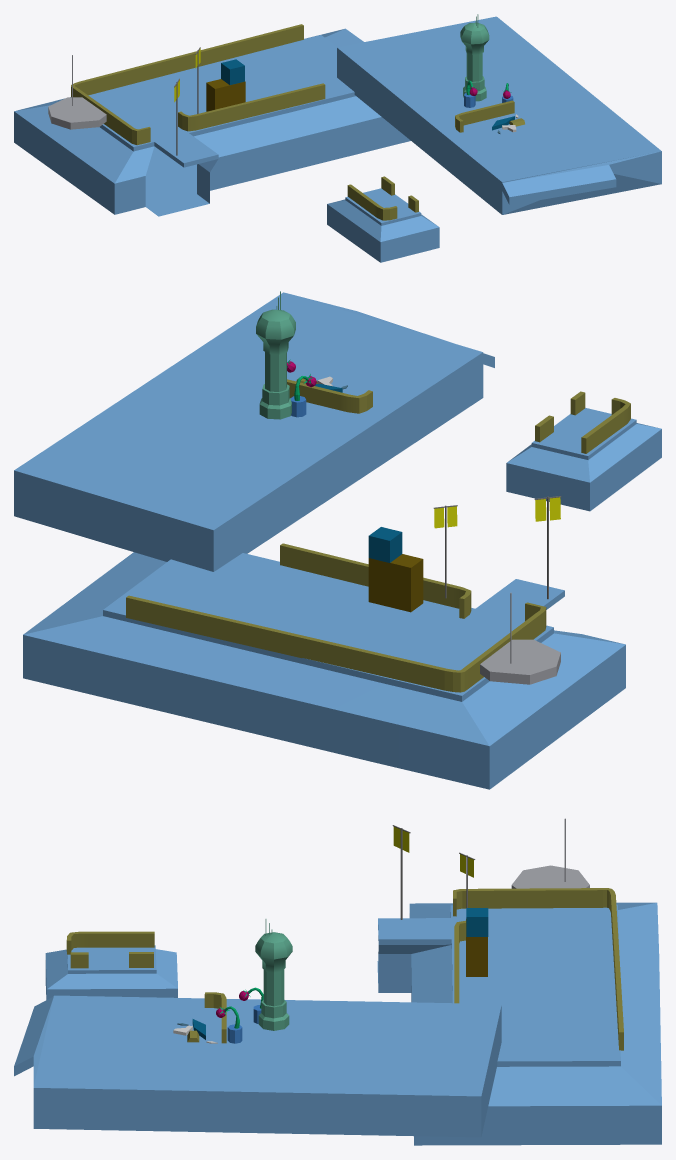
The model's file is forward setting.fbx.
The picture shows the model from 3 angles, top to bottom: view 1: azimuth 30°, elevation 25°; view 2: azimuth 150°, elevation 25°; view 3: azimuth 270°, elevation 25°; orthographic projection. The views are drawn at different scales.
Visible parts, largest first — view 1: main_platform, Lower_Platform1, Lower_Platform, fencing_side1, fencing_side, Tower, light_platform, crate_b, fencing_side6, fencing_side2, crate_a; view 2: Lower_Platform1, main_platform, Lower_Platform, fencing_side1, fencing_side, Tower, light_platform, crate_b, fencing_side6, fencing_side2, crate_a; view 3: main_platform, Lower_Platform1, Lower_Platform, fencing_side1, Tower, fencing_side2, light_platform, crate_b, crate_a, fencing_side, fencing_side6.
Part boxes in pixels (box(x1,y1,x2,y2)): main_platform: box(337, 16, 661, 214); Lower_Platform1: box(14, 28, 410, 216); Lower_Platform: box(327, 188, 439, 262); fencing_side1: box(71, 24, 303, 145); fencing_side: box(178, 83, 325, 131); Tower: box(460, 14, 489, 101); light_platform: box(48, 97, 106, 129); crate_b: box(206, 79, 245, 111); fencing_side6: box(455, 100, 514, 132); fencing_side2: box(347, 184, 397, 220); crate_a: box(221, 59, 244, 84); Lower_Platform1: box(23, 552, 625, 789); main_platform: box(14, 292, 494, 571); Lower_Platform: box(506, 408, 661, 511); fencing_side1: box(126, 595, 546, 692); fencing_side: box(280, 543, 471, 618); Tower: box(256, 291, 295, 419); light_platform: box(480, 639, 560, 684); crate_b: box(368, 554, 423, 612); fencing_side6: box(287, 379, 372, 413); fencing_side2: box(581, 398, 630, 453); crate_a: box(368, 527, 402, 562); main_platform: box(14, 995, 501, 1137); Lower_Platform1: box(377, 902, 661, 1145); Lower_Platform: box(45, 945, 177, 999); fencing_side1: box(453, 888, 623, 1050); Tower: box(255, 919, 292, 1030); fencing_side2: box(66, 931, 154, 954); light_platform: box(511, 865, 589, 888); crate_b: box(466, 919, 487, 976); crate_a: box(466, 908, 488, 936); fencing_side: box(454, 920, 465, 1003); fencing_side6: box(204, 992, 226, 1043).
Size of the model in its own units: 82.12 by 31.6 by 88.46.
